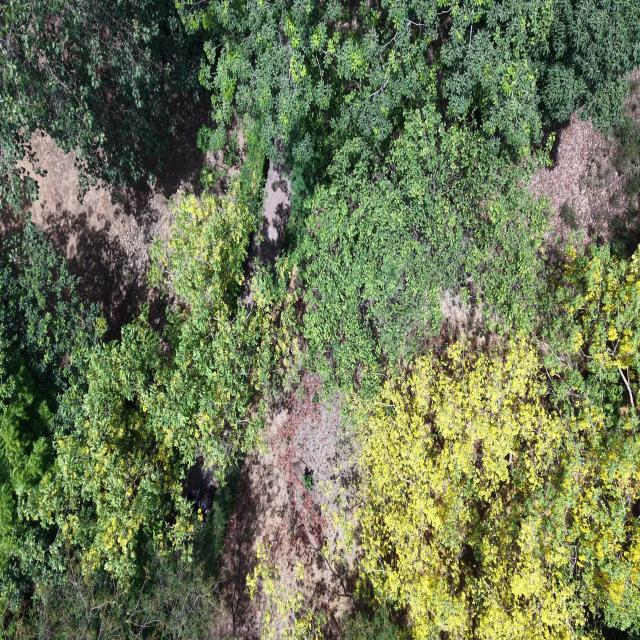DRY_AREA: (22, 124, 226, 338), (23, 108, 206, 338), (23, 118, 213, 336), (213, 374, 353, 638), (215, 376, 356, 638), (214, 375, 354, 638), (214, 377, 354, 638), (216, 383, 354, 637), (215, 385, 351, 637), (23, 136, 175, 336), (529, 113, 639, 264), (530, 114, 628, 262), (531, 114, 638, 249), (530, 114, 628, 243), (531, 114, 625, 243), (241, 160, 290, 305), (242, 160, 290, 304), (255, 161, 290, 265), (441, 291, 494, 348), (183, 451, 218, 495)
VEGETATION_TREE: (0, 0, 639, 639), (0, 154, 295, 637), (359, 248, 639, 638), (32, 173, 293, 584), (178, 0, 639, 213), (360, 341, 639, 638), (179, 0, 639, 164), (294, 107, 547, 384), (360, 341, 584, 638), (150, 155, 295, 474), (32, 313, 193, 585), (0, 0, 201, 209), (0, 221, 103, 608), (542, 246, 639, 634), (3, 523, 221, 639), (543, 246, 639, 418), (533, 0, 639, 129), (247, 542, 327, 639), (612, 77, 639, 254), (616, 104, 639, 213), (343, 607, 408, 639)
